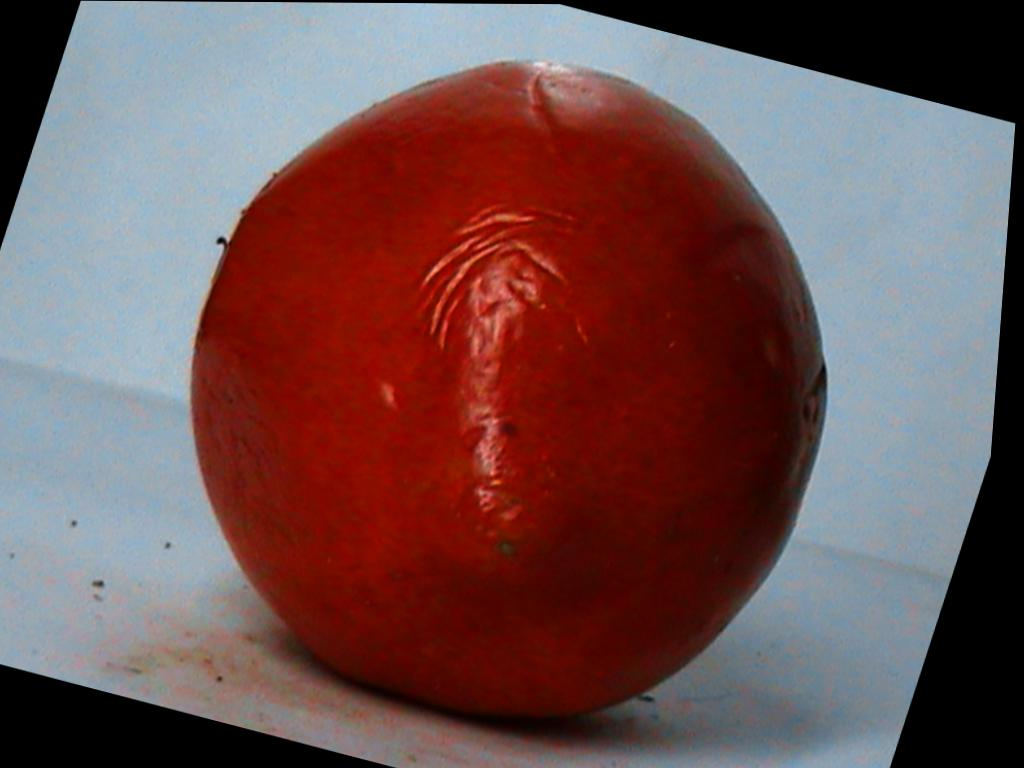bruise_discoloration: (388, 204, 627, 583)
surface_damage: (527, 63, 559, 150)
tomato: (193, 62, 827, 716)
